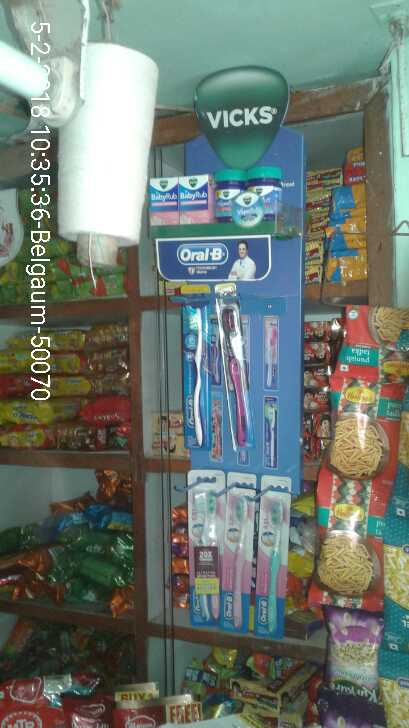pharmacy: (188, 460, 288, 633), (179, 292, 253, 451), (150, 162, 291, 235)
